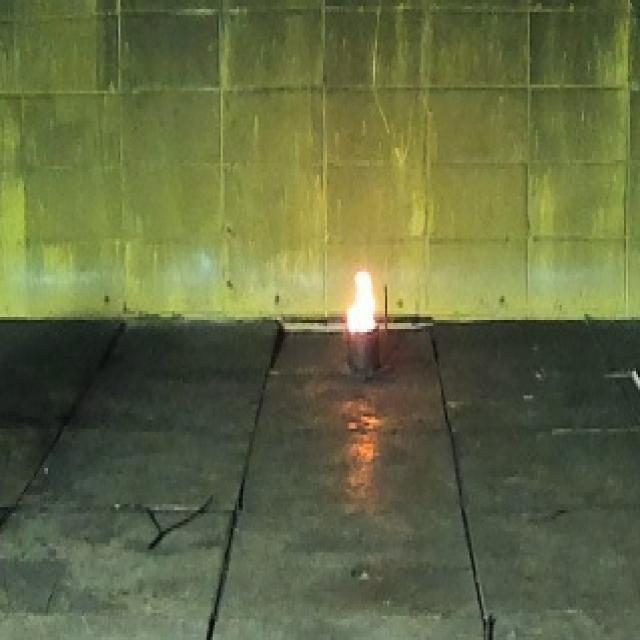Fire: (346, 270, 376, 333)
